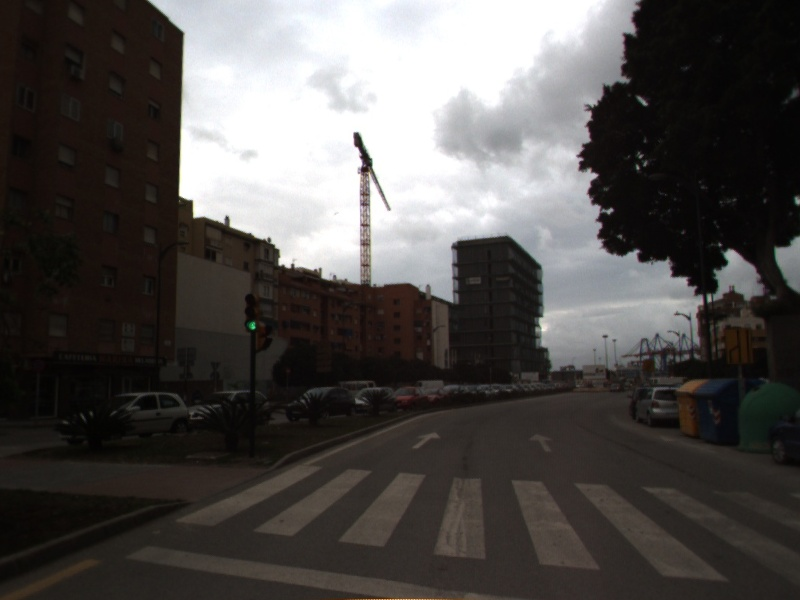STRAIGHT: (410, 430, 443, 450), (526, 431, 554, 454)
